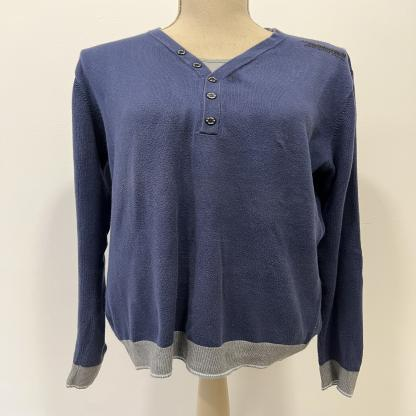stain: (219, 68, 247, 88)
